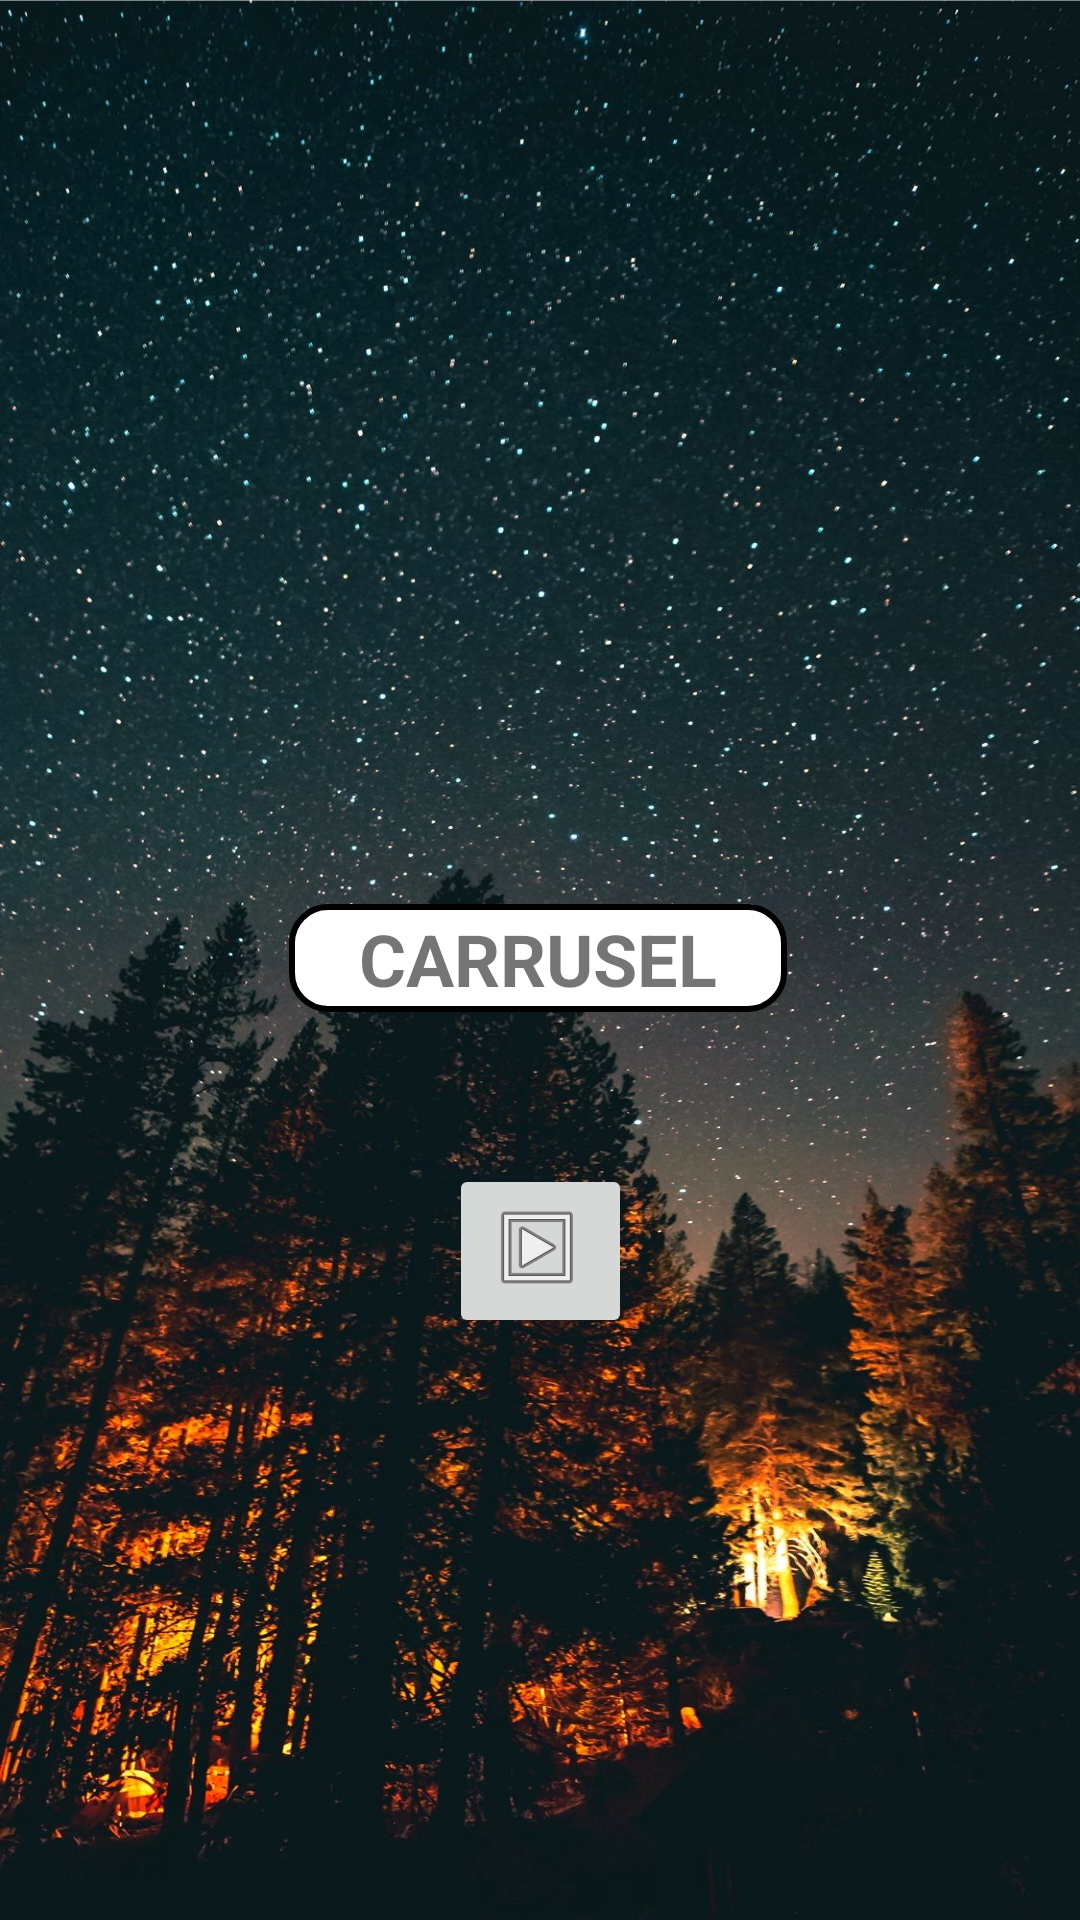

Icons on this 1080w x 1920h Android screen, each with its box as [x1, y1, x2, y2]:
slideshow: [449, 1164, 632, 1338]
